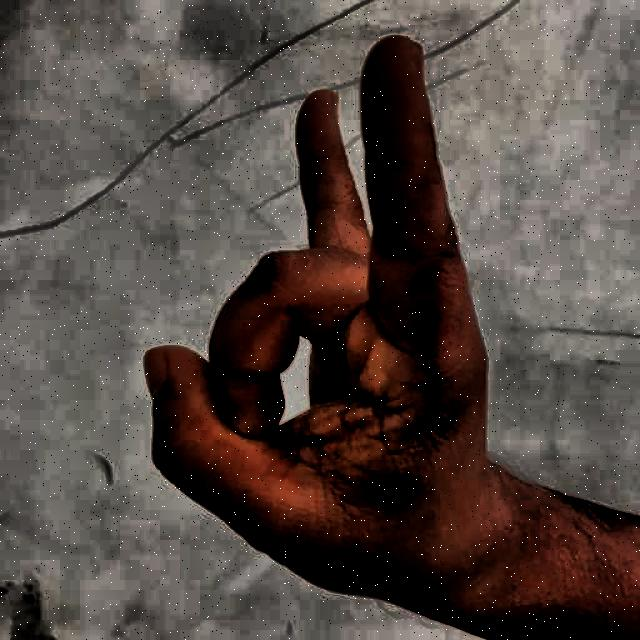Cha: (96, 26, 532, 634)
